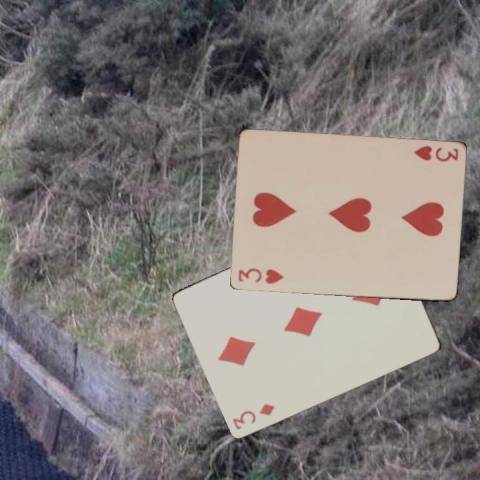3d: (229, 400, 276, 431)
3h: (235, 266, 284, 286), (410, 143, 459, 163)
